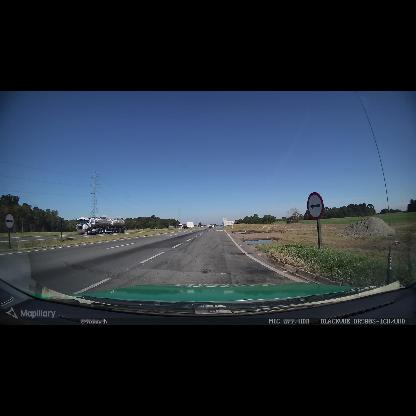R-2: (232, 221, 235, 225)
R-24a: (307, 192, 324, 220), (4, 212, 15, 230)
